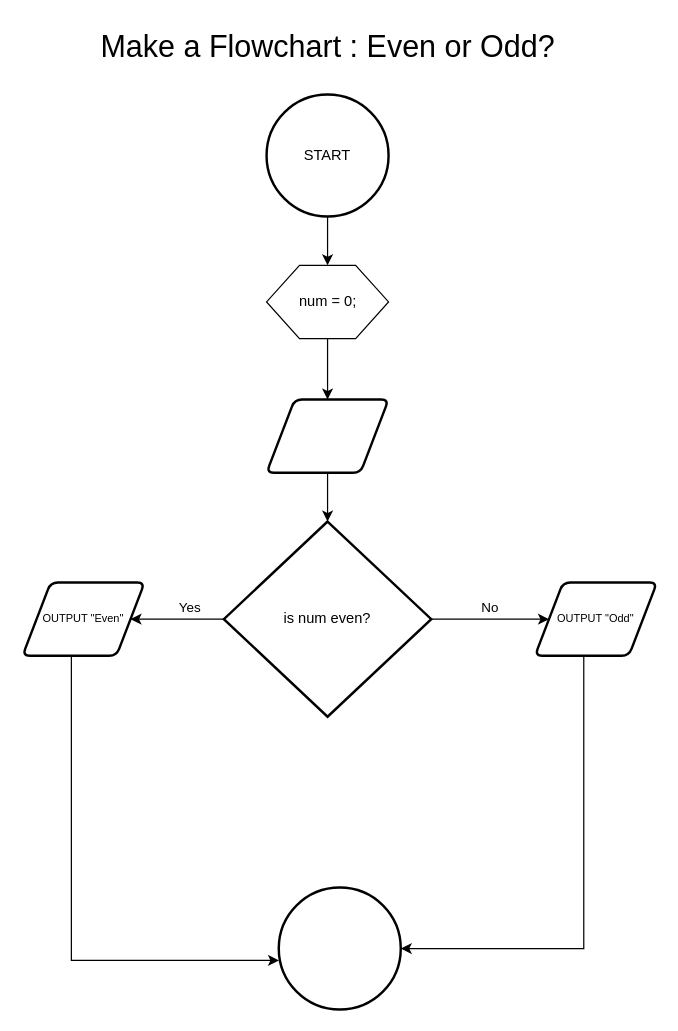
Image size: 678x1031. Some labels were removed from this diagram. Each missing label, with the centre of its shape:
"END" goes at point 339,948.
"INPUT num" goes at point 327,435.
